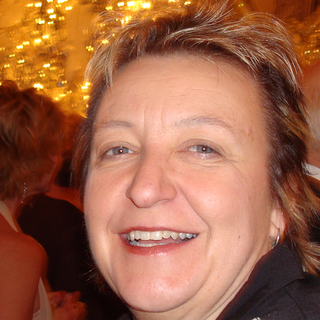eye: (181, 140, 229, 162), (98, 141, 143, 164)
